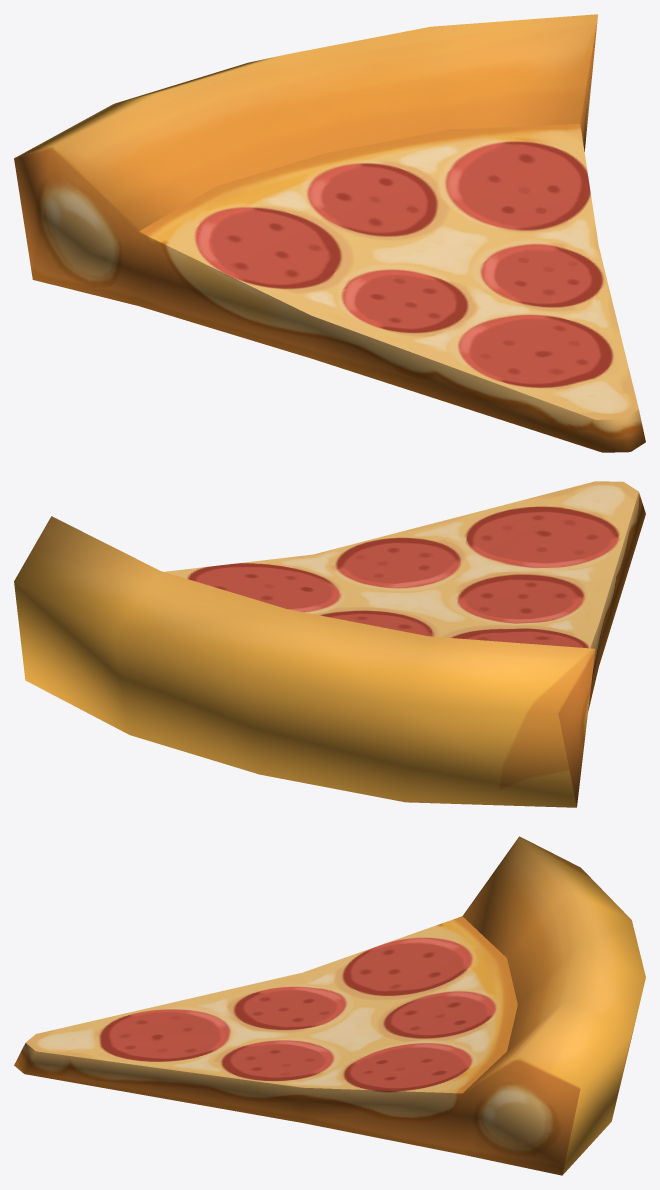
The model's file is pizza-low-poly.fbx.
The picture shows the model from 3 angles, top to bottom: view 1: azimuth 30°, elevation 25°; view 2: azimuth 150°, elevation 25°; view 3: azimuth 270°, elevation 25°; orthographic projection. The views are drawn at different scales.
Visible parts, largest first — view 1: taco; view 2: taco; view 3: taco.
Part boxes in pixels (bbox=[...]): taco: bbox=[14, 14, 645, 452]; taco: bbox=[14, 481, 645, 807]; taco: bbox=[14, 836, 645, 1175].
Size of the model in its own units: 14.71 by 3.75 by 17.9.
Materials: 1 (1 with a texture image).
